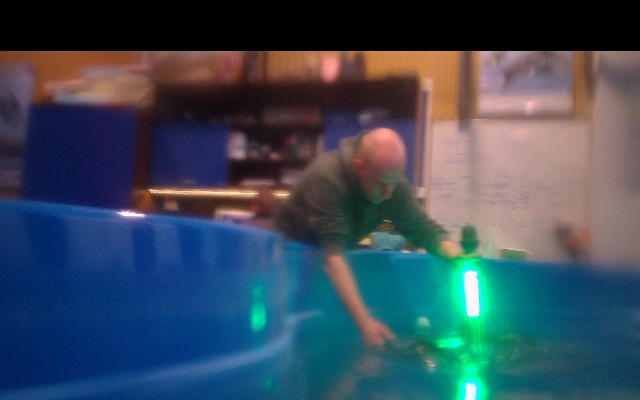green: (463, 269, 480, 319)
